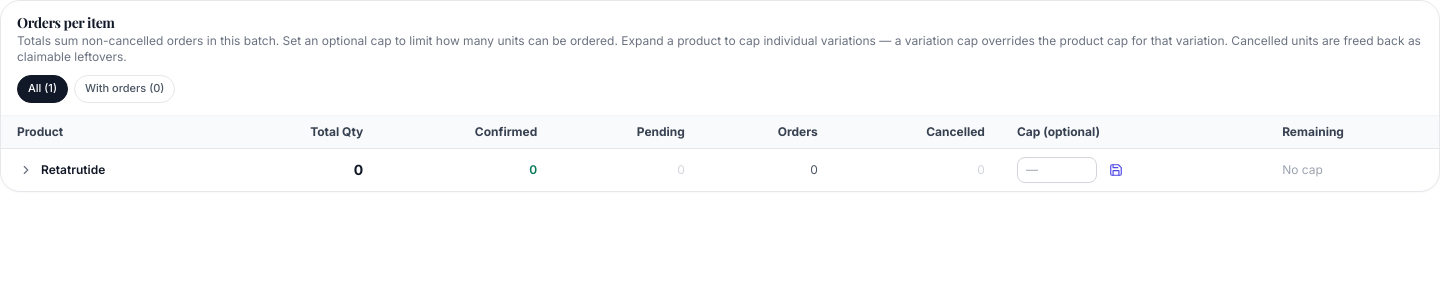
Scenario: CapsProgressTable variation expansion › reveals a cap editor per variation after expanding
The width and height of the screenshot is (1440, 287).
Click the button named "Expand variations for Retatrutide" at x=26, y=170, box [17,161,35,179]
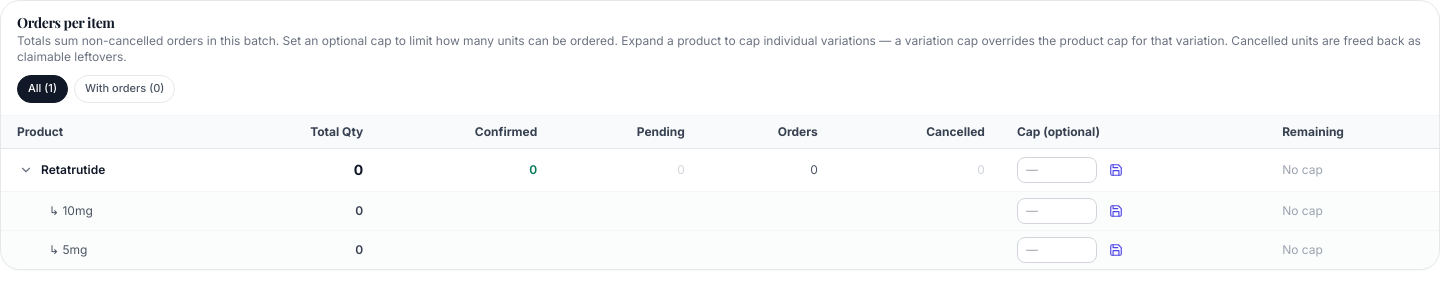
Expected: the number field named "Cap for Retatrutide — 10mg" is shown, [1017,198,1097,224]
Expected: the number field named "Cap for Retatrutide — 5mg" is shown, [1017,237,1097,263]
